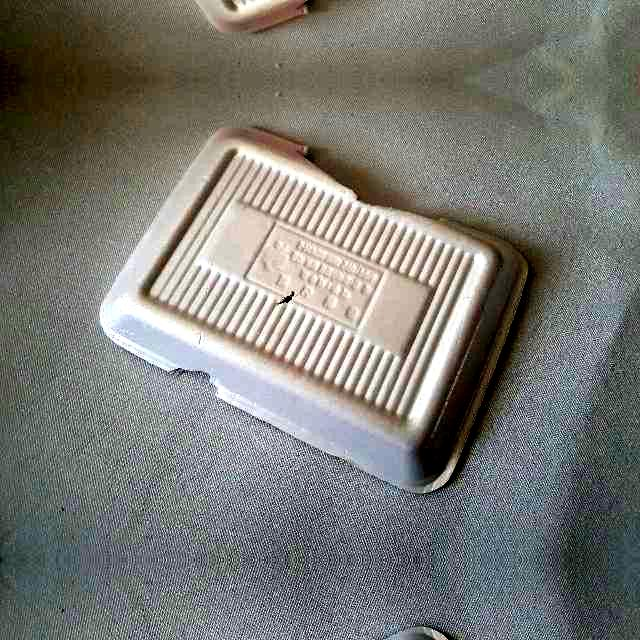Styrofoam: (100, 123, 528, 493), (99, 126, 529, 493)
